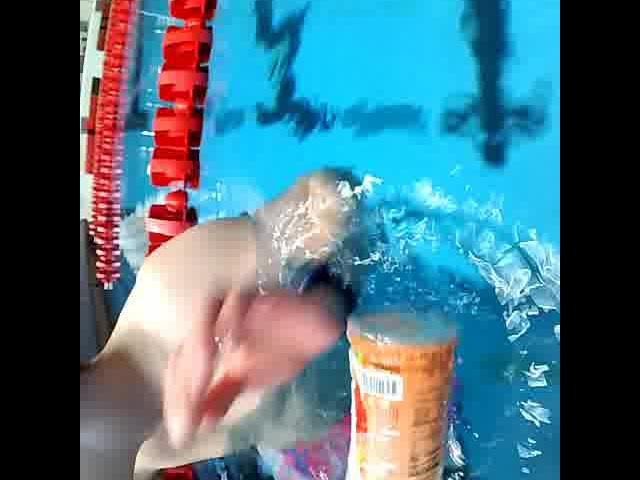Bottle: (342, 305, 462, 480)
